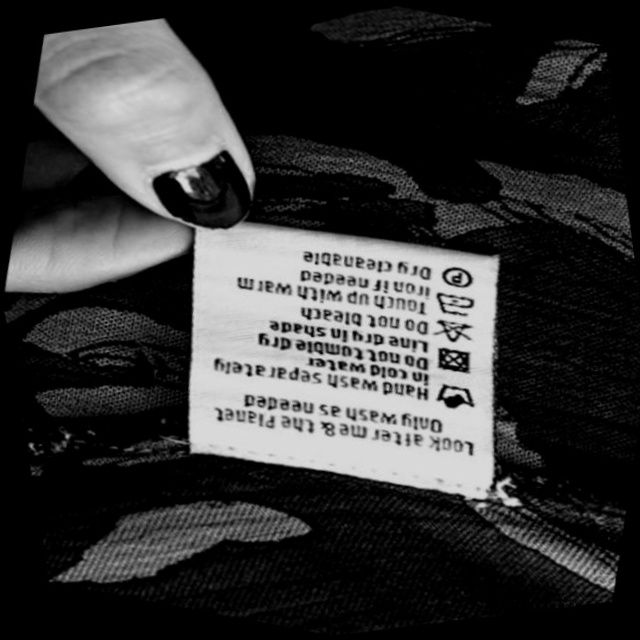DN_bleach: (431, 313, 471, 348)
DN_tumble_dry: (434, 340, 473, 376)
dry_clean_any_solvent_except_trichloroethylene: (436, 260, 474, 290)
hand_wash: (433, 378, 477, 414)
iron_low: (430, 287, 476, 325)
